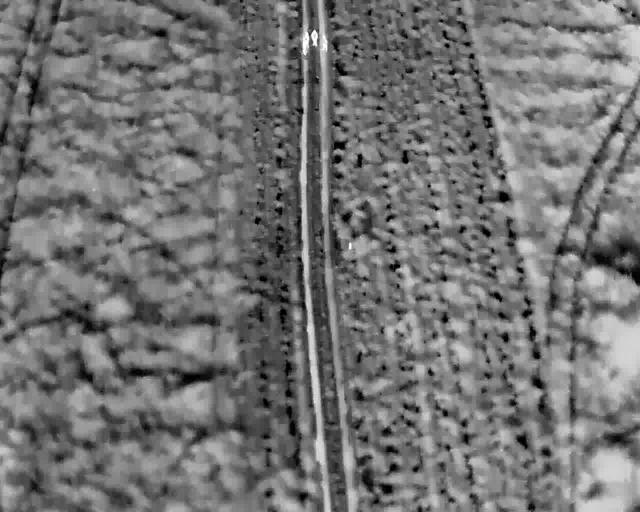person: (310, 28, 320, 49), (301, 38, 311, 57), (320, 34, 330, 52), (300, 29, 310, 45)
